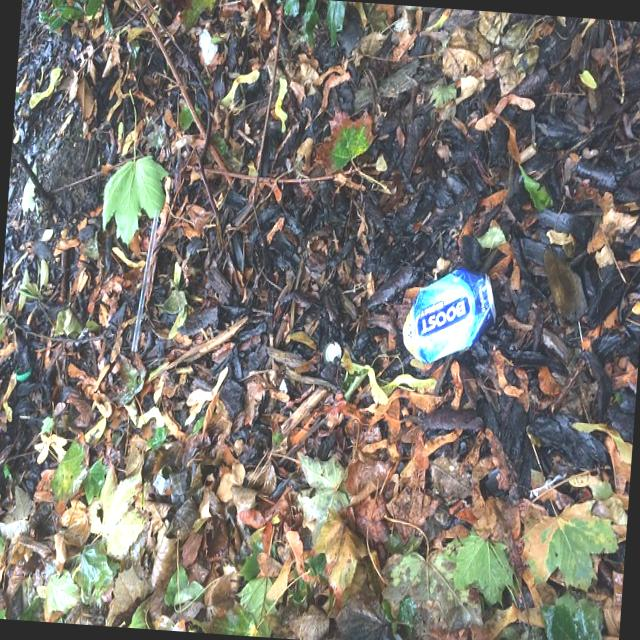Trash: (398, 263, 502, 370)
